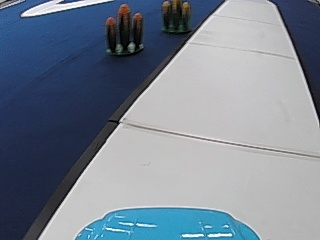corn: (105, 3, 146, 57), (160, 0, 191, 33)
